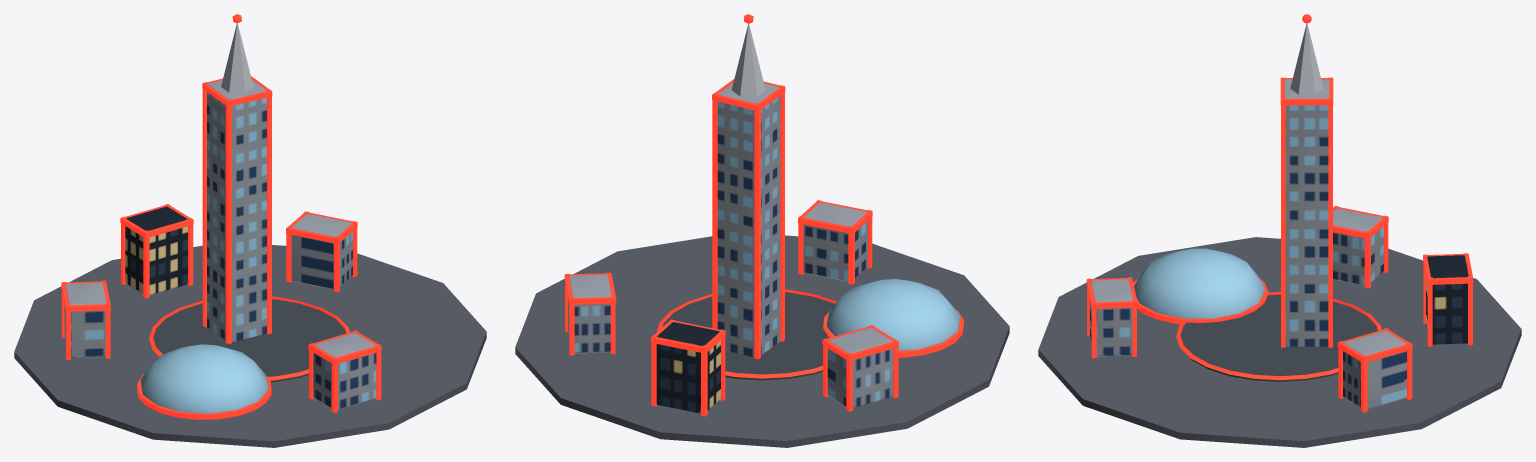
The model's file is district_scifi_b_red.glb.
3 renders of one model, left to right at view 1: azimuth 30°, elevation 25°; view 2: azimuth 150°, elevation 25°; view 3: azimuth 270°, elevation 25°, orthographic. The views are drawn at different scales.
Parts seen in each view (by area): view 1: district_scifi_b_red; view 2: district_scifi_b_red; view 3: district_scifi_b_red.
Part boxes in pixels (x1,y1,x2,y2): district_scifi_b_red: (14, 14, 486, 447); district_scifi_b_red: (515, 14, 1009, 447); district_scifi_b_red: (1038, 14, 1521, 447).
Bounding box in the file's own units: 1.43 × 1.19 × 1.43.
2 materials, 1 textured.
